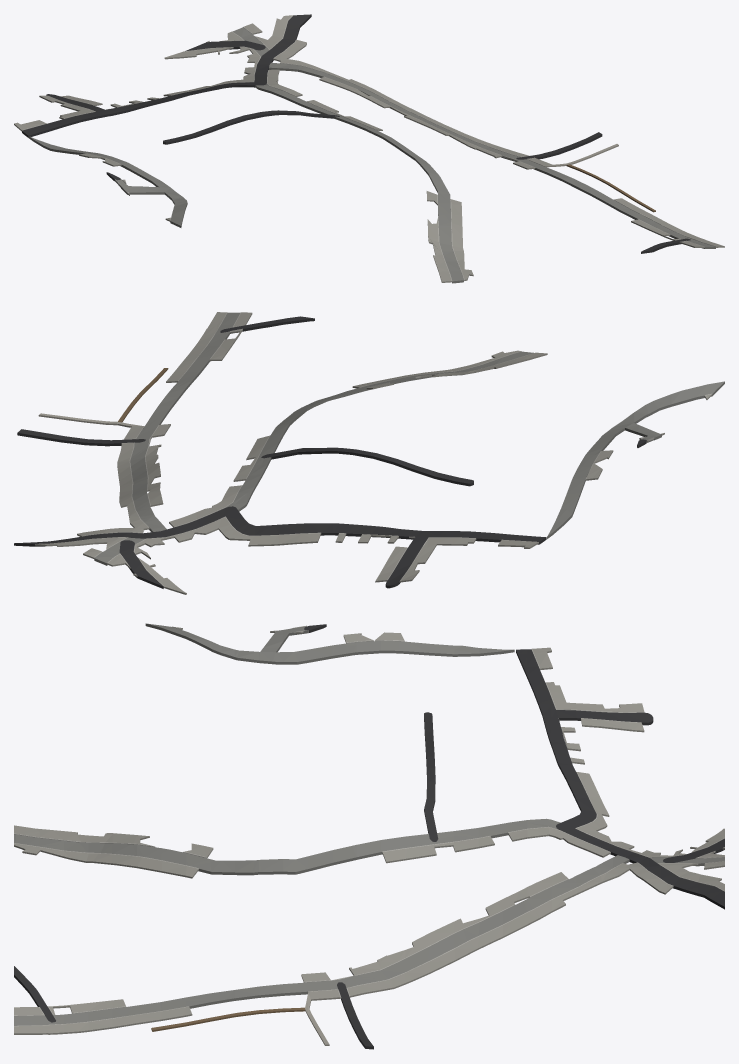
The picture shows the model from 3 angles, top to bottom: view 1: azimuth 30°, elevation 25°; view 2: azimuth 150°, elevation 25°; view 3: azimuth 270°, elevation 25°; orthographic projection. The views are drawn at different scales.
Bounding box in the file's own units: 293 × 57.49 × 291.
